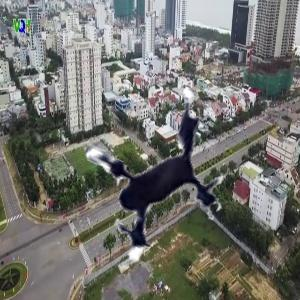drone: (38, 64, 255, 281)
